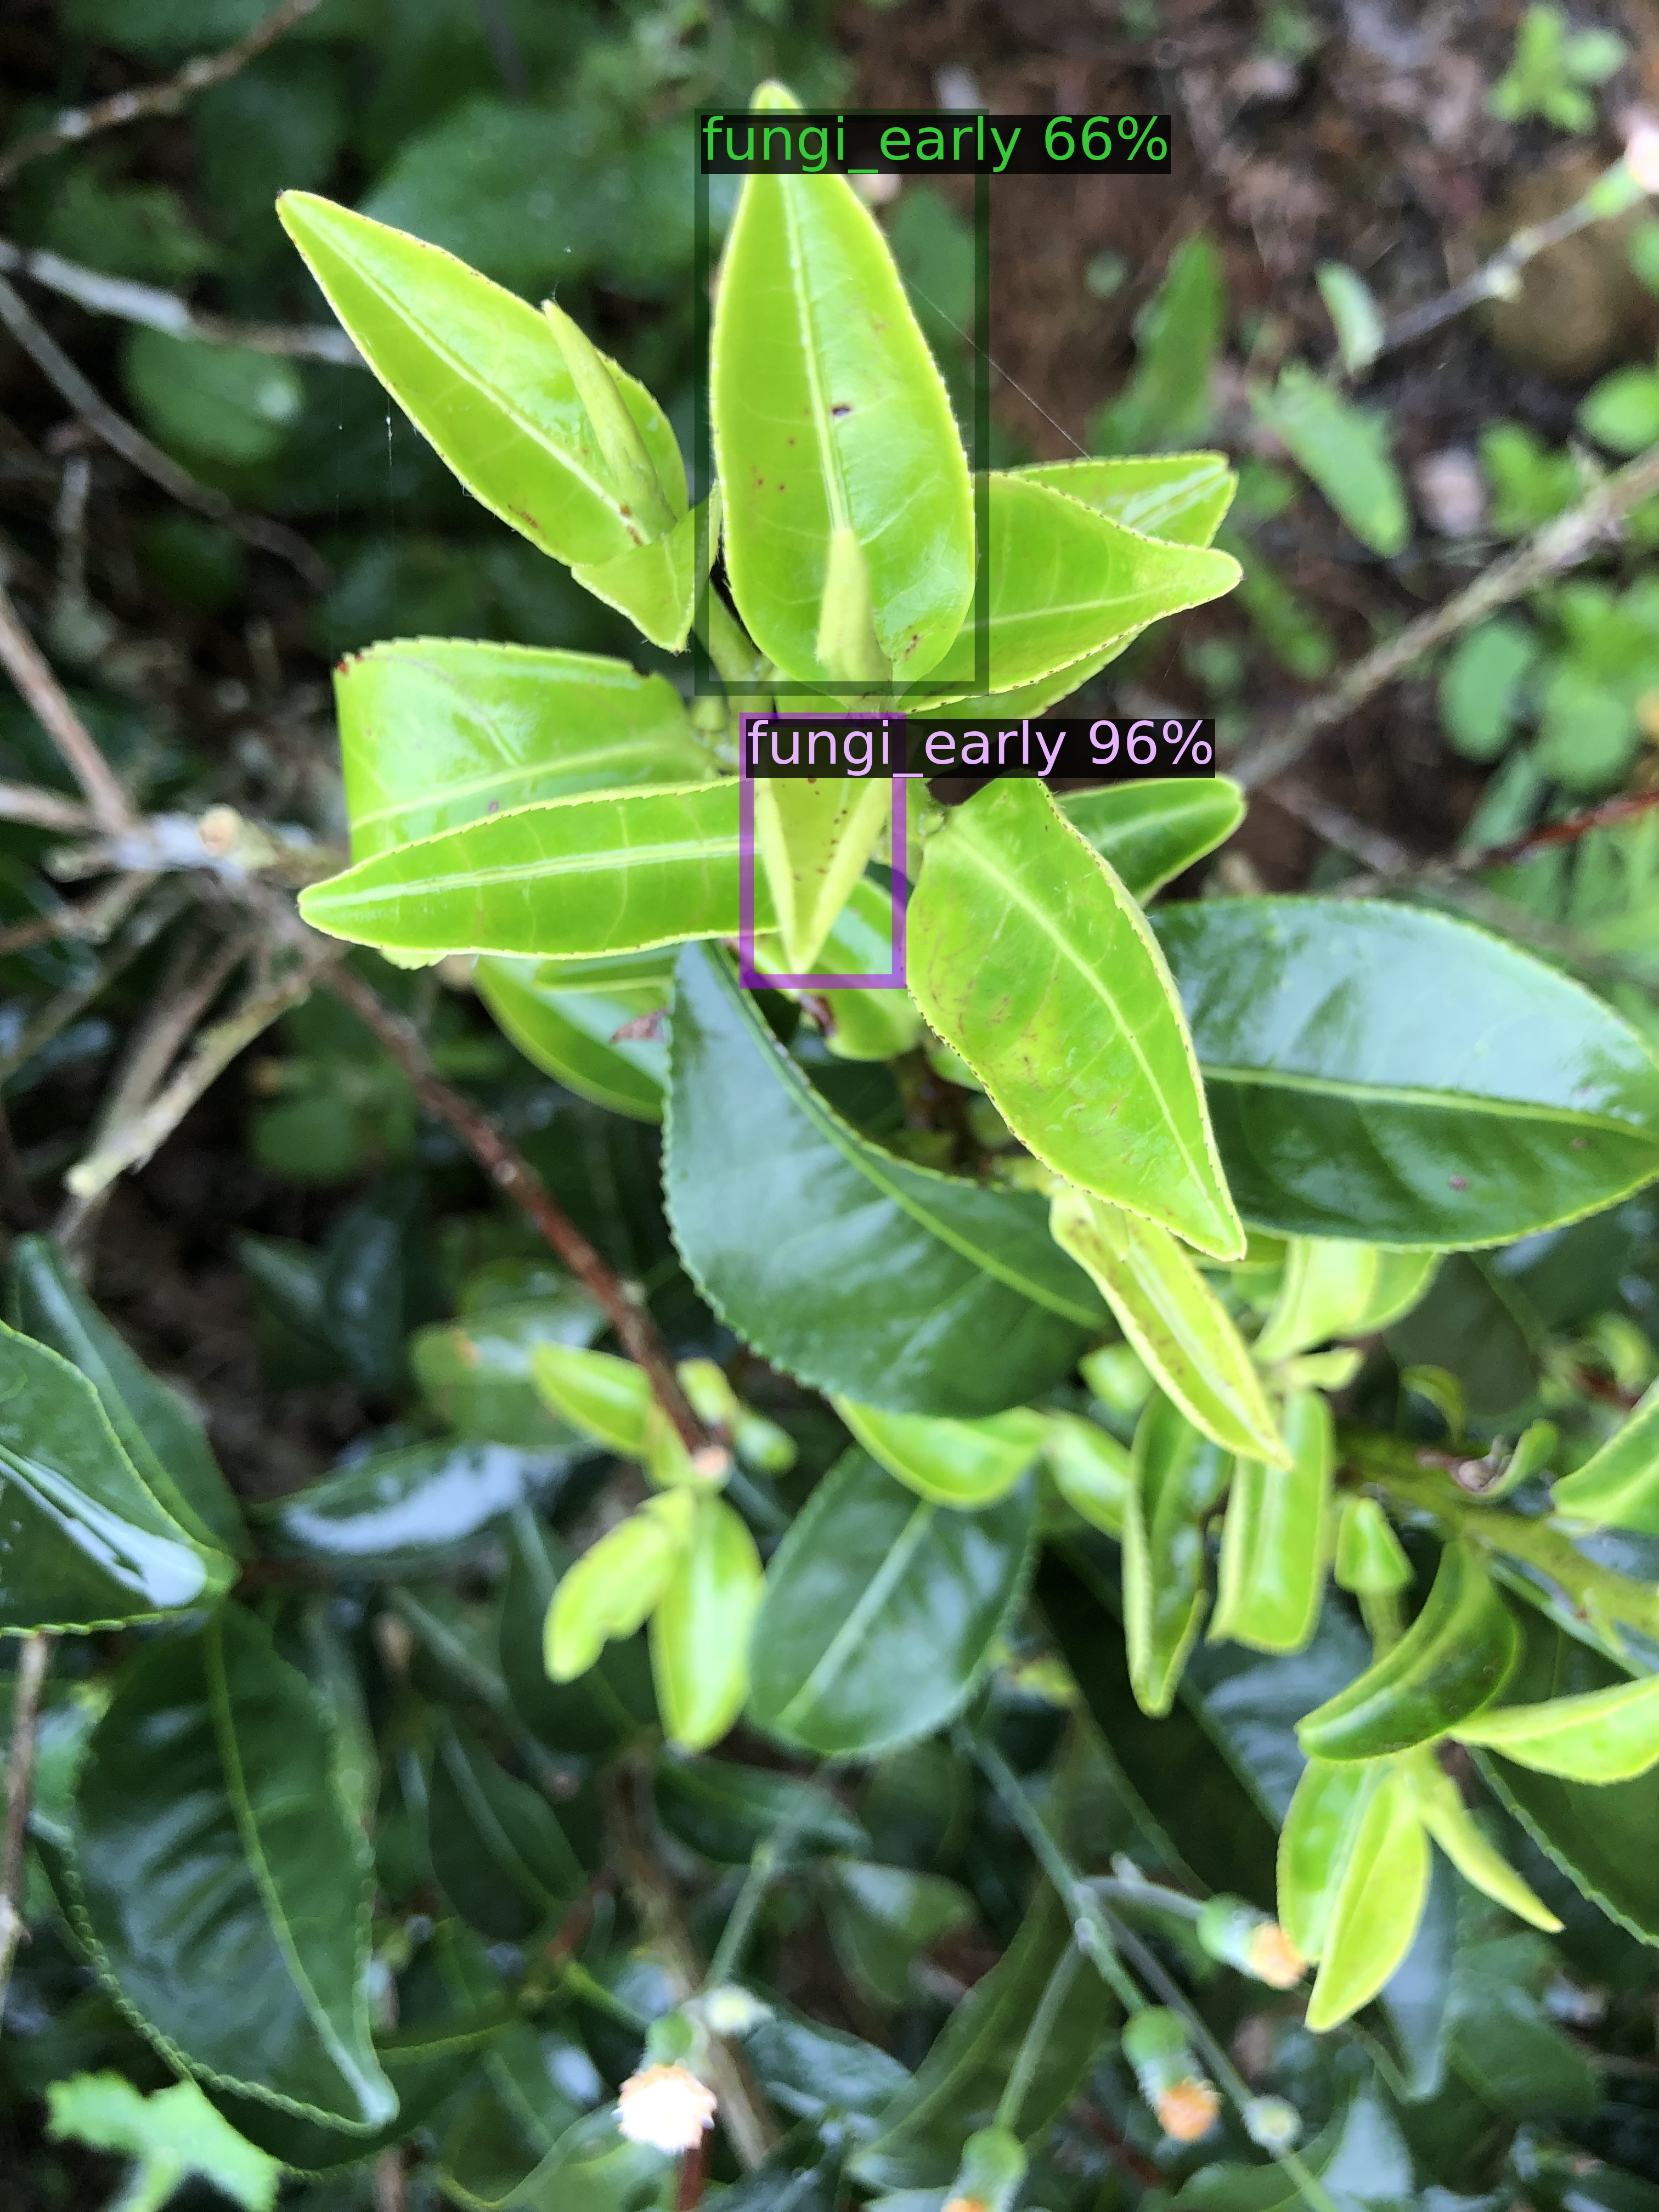fungi_early: (702, 115, 981, 688), (746, 719, 899, 981)
